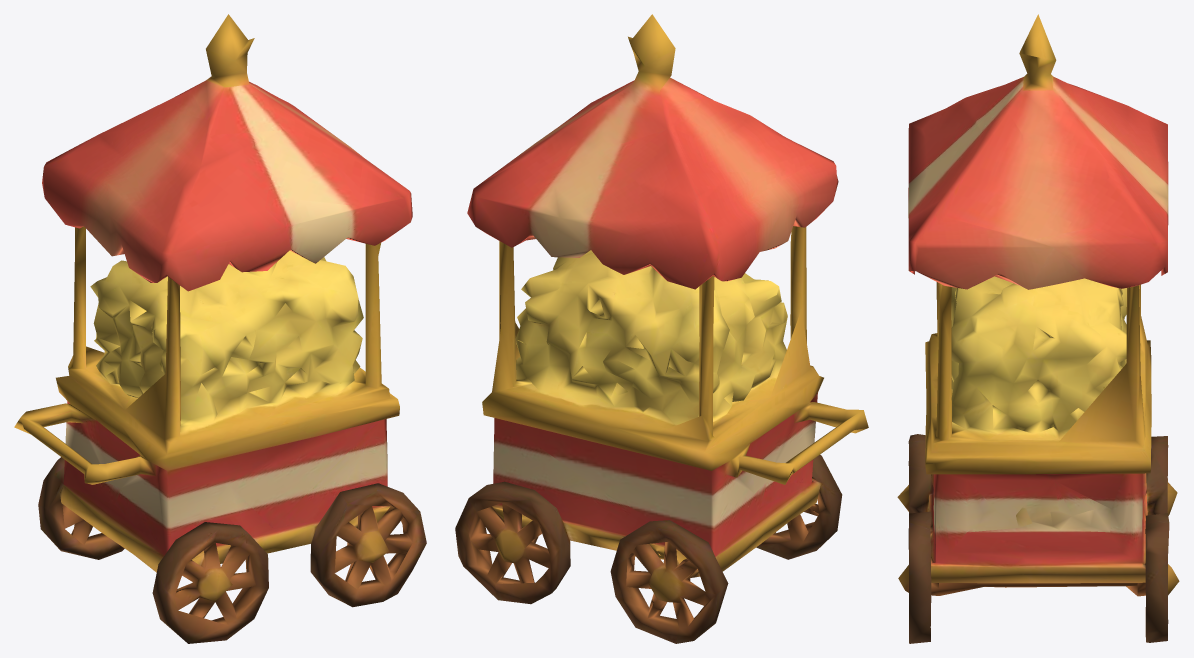
Rendered from chariot-popcorn.glb.
The picture shows the model from 3 angles, left to right: view 1: azimuth 30°, elevation 25°; view 2: azimuth 150°, elevation 25°; view 3: azimuth 270°, elevation 25°; orthographic projection. The views are drawn at different scales.
Parts seen in each view (by area): view 1: tripo_node_36d378d0-fda9-4340-8a52-6fd8d5f54d90; view 2: tripo_node_36d378d0-fda9-4340-8a52-6fd8d5f54d90; view 3: tripo_node_36d378d0-fda9-4340-8a52-6fd8d5f54d90.
Part boxes in pixels (x1,y1,x2,y2): tripo_node_36d378d0-fda9-4340-8a52-6fd8d5f54d90: (14,14,426,643); tripo_node_36d378d0-fda9-4340-8a52-6fd8d5f54d90: (455,14,868,643); tripo_node_36d378d0-fda9-4340-8a52-6fd8d5f54d90: (897,14,1179,643).
Bounding box in the file's own units: 0.5848 × 1 × 0.4392.
1 material, 1 textured.
